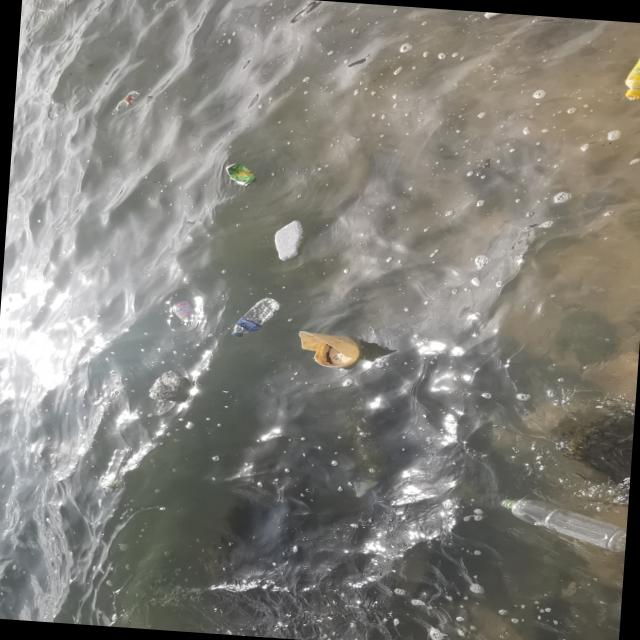can: (224, 158, 258, 186)
foam: (145, 366, 187, 403), (274, 218, 306, 260), (482, 10, 530, 20)
plastic: (495, 491, 628, 552), (232, 294, 282, 338), (621, 25, 640, 100), (109, 88, 139, 116)
plastic bottle: (296, 327, 362, 368)
unknow: (171, 299, 200, 324)
